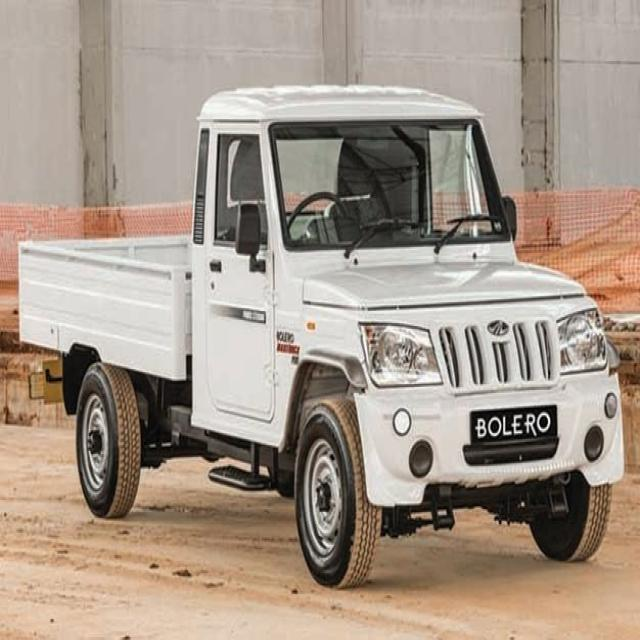Pickup Trucks: (18, 88, 626, 588)
